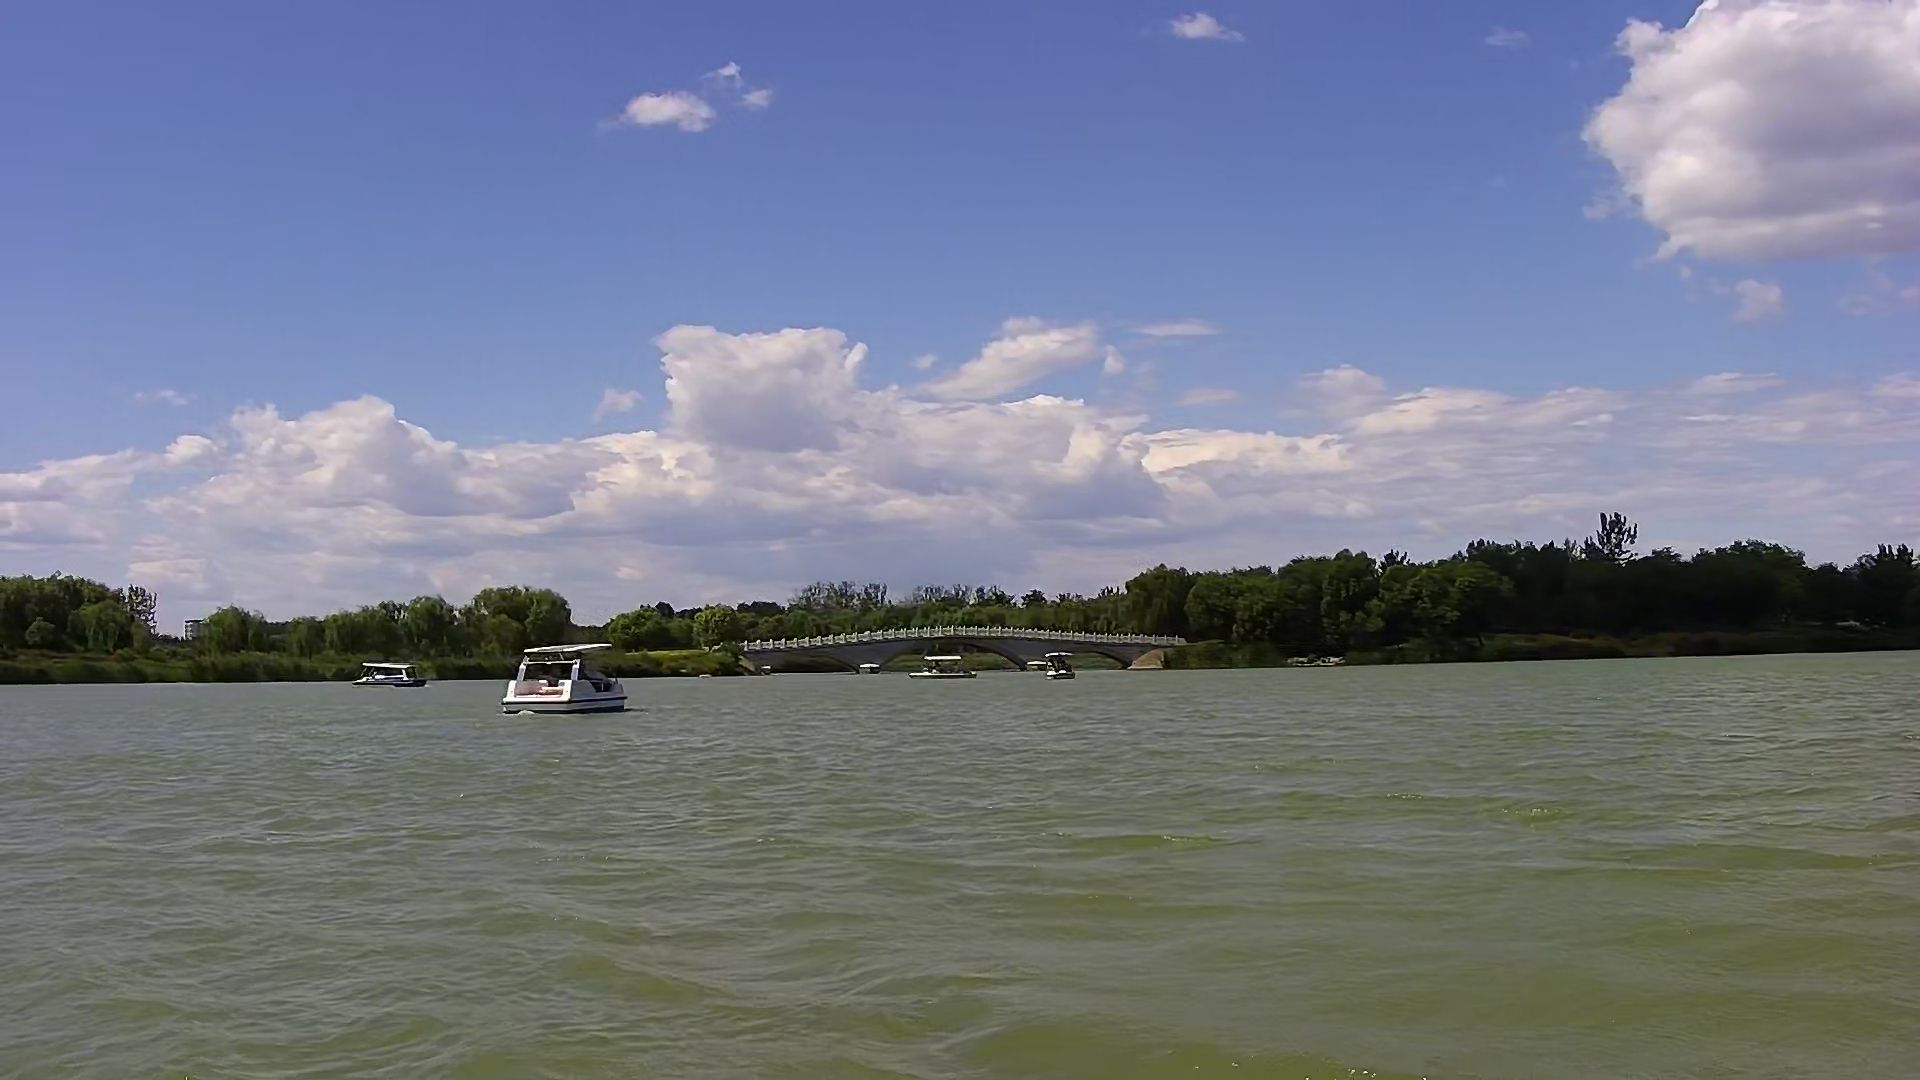boat: (493, 640, 633, 723), (906, 647, 990, 687), (347, 654, 425, 691)
bridge: (742, 618, 1203, 686)
